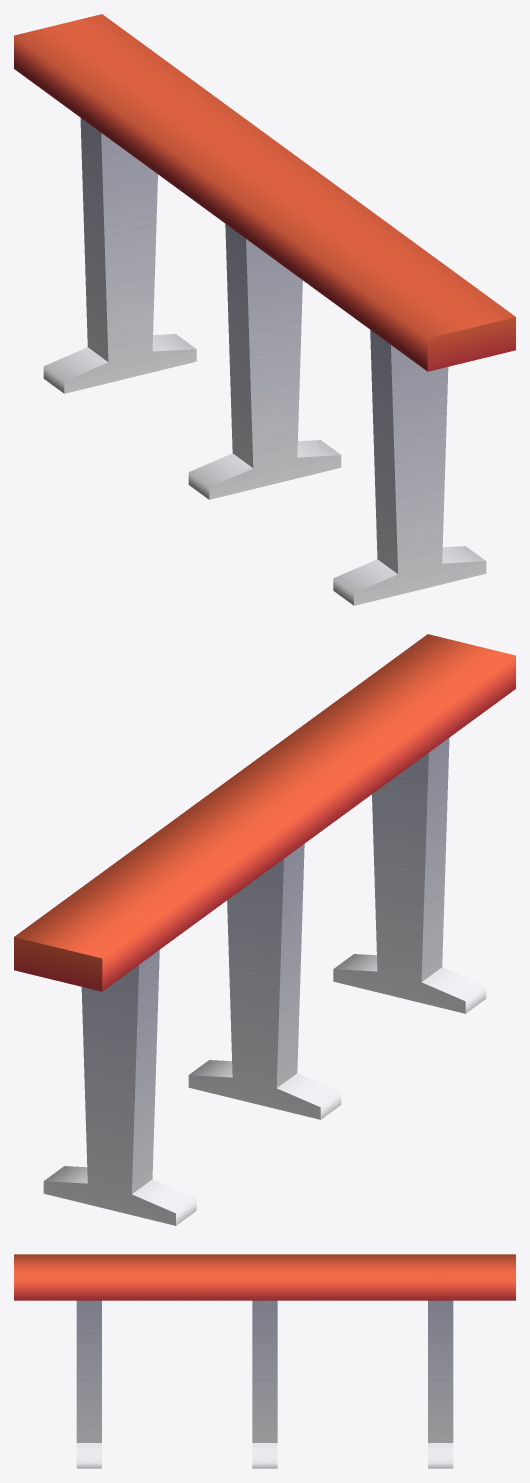
Rendered from rail-high_lev2.glb.
The picture shows the model from 3 angles, top to bottom: view 1: azimuth 30°, elevation 25°; view 2: azimuth 150°, elevation 25°; view 3: azimuth 270°, elevation 25°; orthographic projection. The views are drawn at different scales.
Visible parts, largest first — view 1: rail-high_lev2; view 2: rail-high_lev2; view 3: rail-high_lev2.
Part boxes in pixels (bbox=[...]): rail-high_lev2: bbox=[14, 14, 515, 605]; rail-high_lev2: bbox=[14, 634, 515, 1225]; rail-high_lev2: bbox=[14, 1254, 515, 1468].
Bounding box in the file's own units: 0.4812 × 1.04 × 2.61.
1 material, 1 textured.
